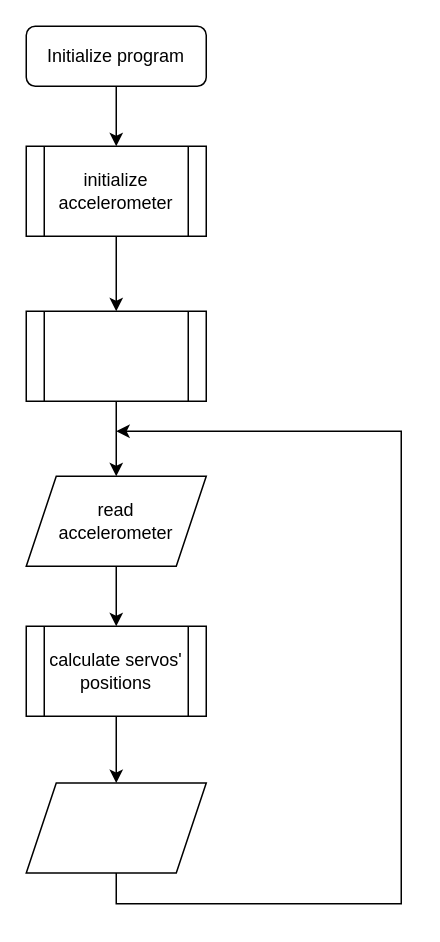
Some shapes in this 440 by 942 pixel diagram are drawn without their labels. The shapes that lost their labels are listed below. From the top down, each one's centre as x and y in pixels, then its label:
the point at 115,355: initialize servos
the point at 115,827: ser servos' positions
